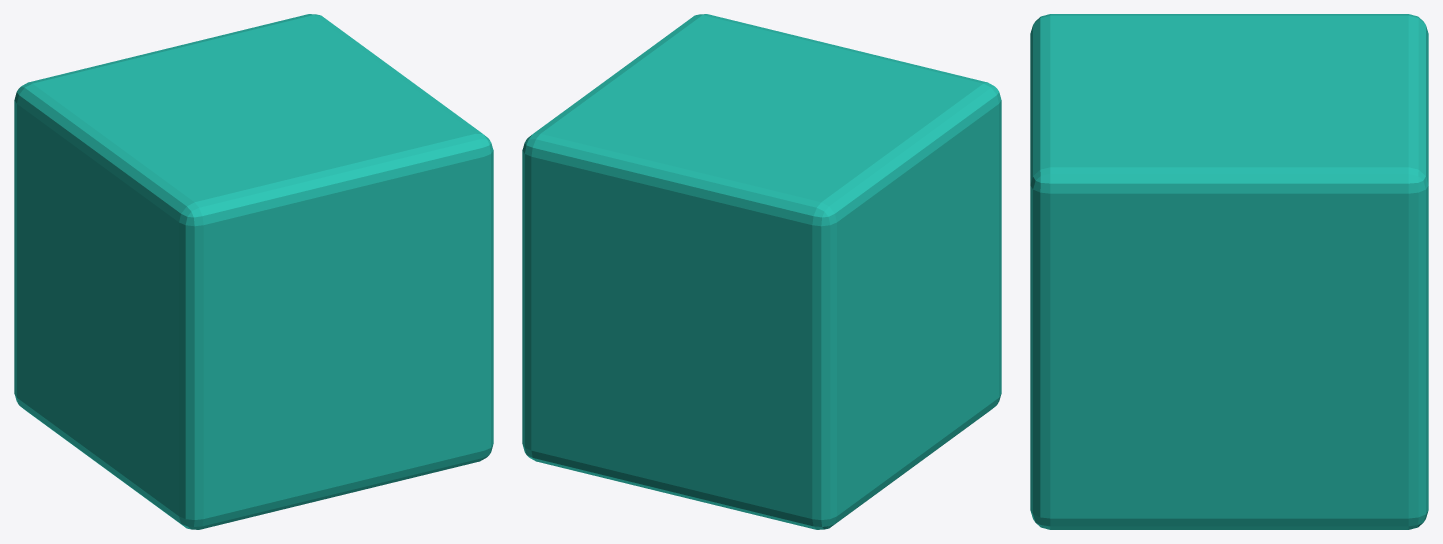
3 renders of one model, left to right at view 1: azimuth 30°, elevation 25°; view 2: azimuth 150°, elevation 25°; view 3: azimuth 270°, elevation 25°, orthographic. The views are drawn at different scales.
Visible parts, largest first — view 1: BeveledCalibrationCube_export; view 2: BeveledCalibrationCube_export; view 3: BeveledCalibrationCube_export.
Boxes of the visible parts, x1,y1,x2,y2 form: BeveledCalibrationCube_export: (14, 14, 493, 529); BeveledCalibrationCube_export: (522, 14, 1001, 529); BeveledCalibrationCube_export: (1030, 14, 1428, 529).
Size of the model in its own units: 0.02 by 0.02 by 0.02.
